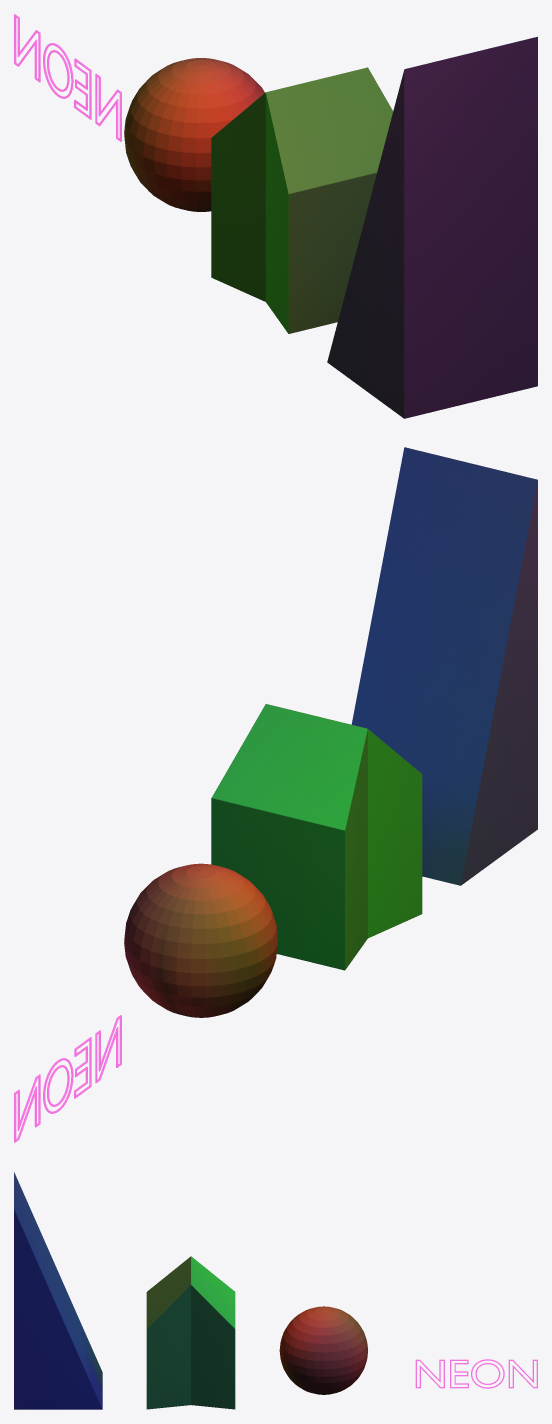
The picture shows the model from 3 angles, top to bottom: view 1: azimuth 30°, elevation 25°; view 2: azimuth 150°, elevation 25°; view 3: azimuth 270°, elevation 25°; orthographic projection. The views are drawn at different scales.
Parts seen in each view (by area): view 1: Obj.001, Neon; view 2: Obj.001, Neon; view 3: Obj.001, Neon.
Part boxes in pixels (bbox=[...]): Obj.001: bbox=[124, 36, 537, 418]; Neon: bbox=[14, 14, 121, 141]; Obj.001: bbox=[124, 447, 537, 1017]; Neon: bbox=[14, 1015, 121, 1142]; Obj.001: bbox=[14, 1172, 367, 1409]; Neon: bbox=[415, 1359, 537, 1388].
Size of what is drawn, in the model's own units: 2 by 5 by 11.84.
Materials: 2 (1 with a texture image).
